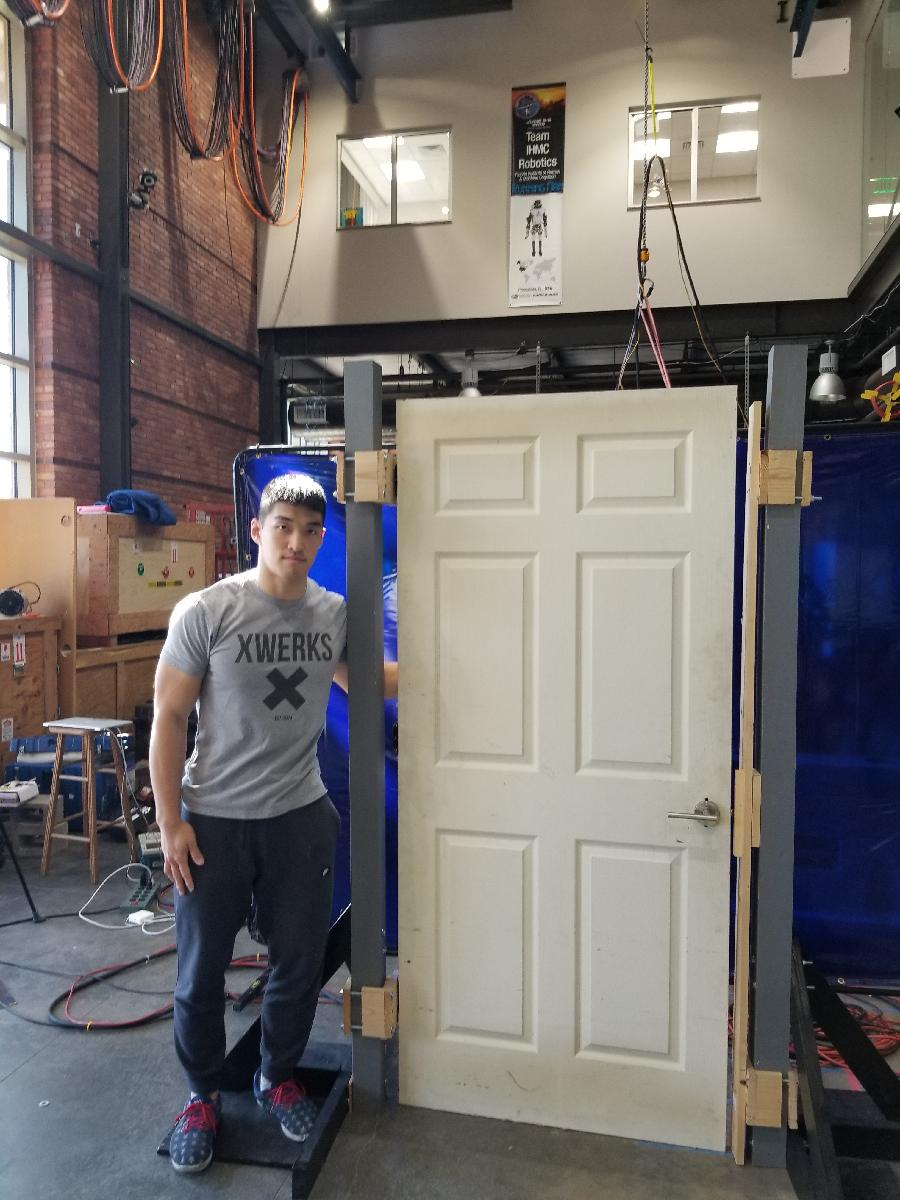door: (394, 382, 740, 1160)
doorHandle: (664, 790, 728, 836)
